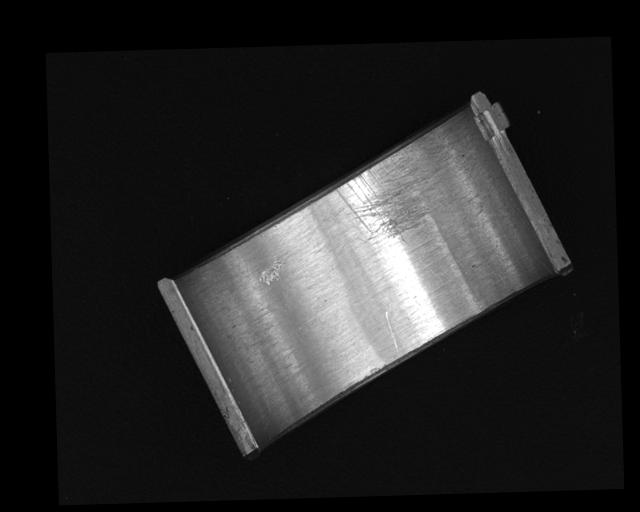bruise: (258, 259, 289, 286)
nick: (384, 310, 398, 353)
scratch: (333, 131, 437, 247)
